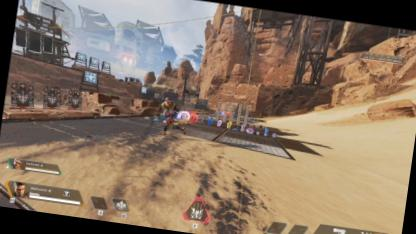Target: (156, 95, 184, 136)
